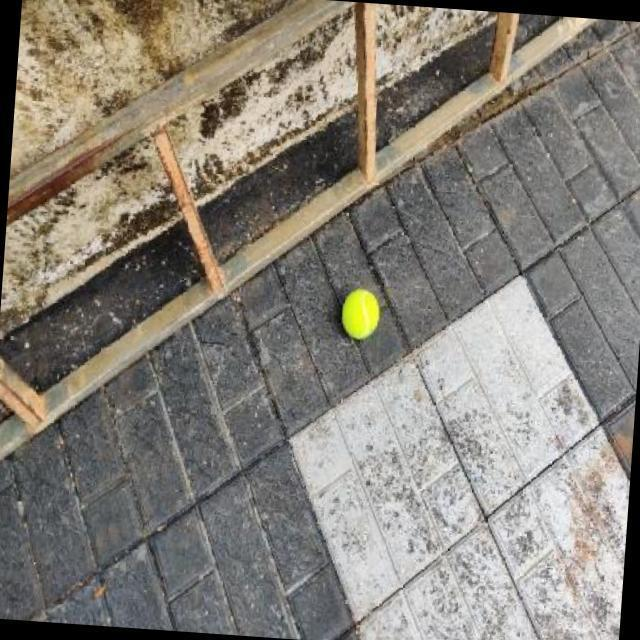-: (318, 271, 400, 358)
